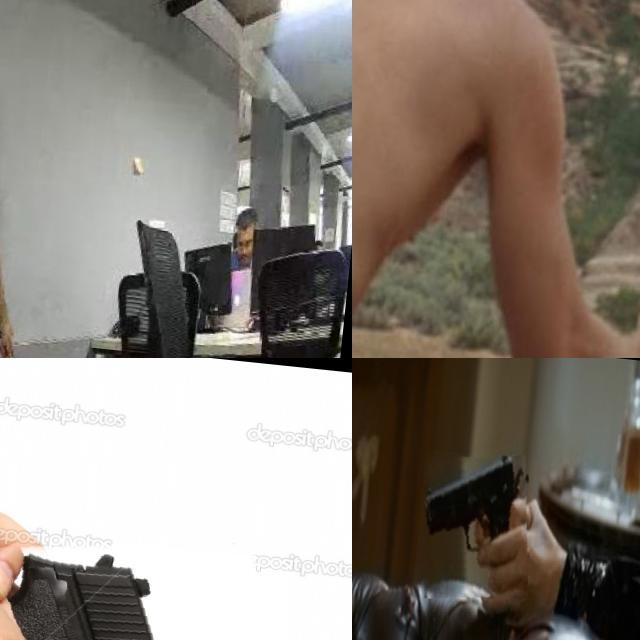-: (10, 324, 52, 358)
gun-knife-thesis - v11 Yolov5 augmented: (0, 506, 296, 640), (417, 446, 540, 600)
